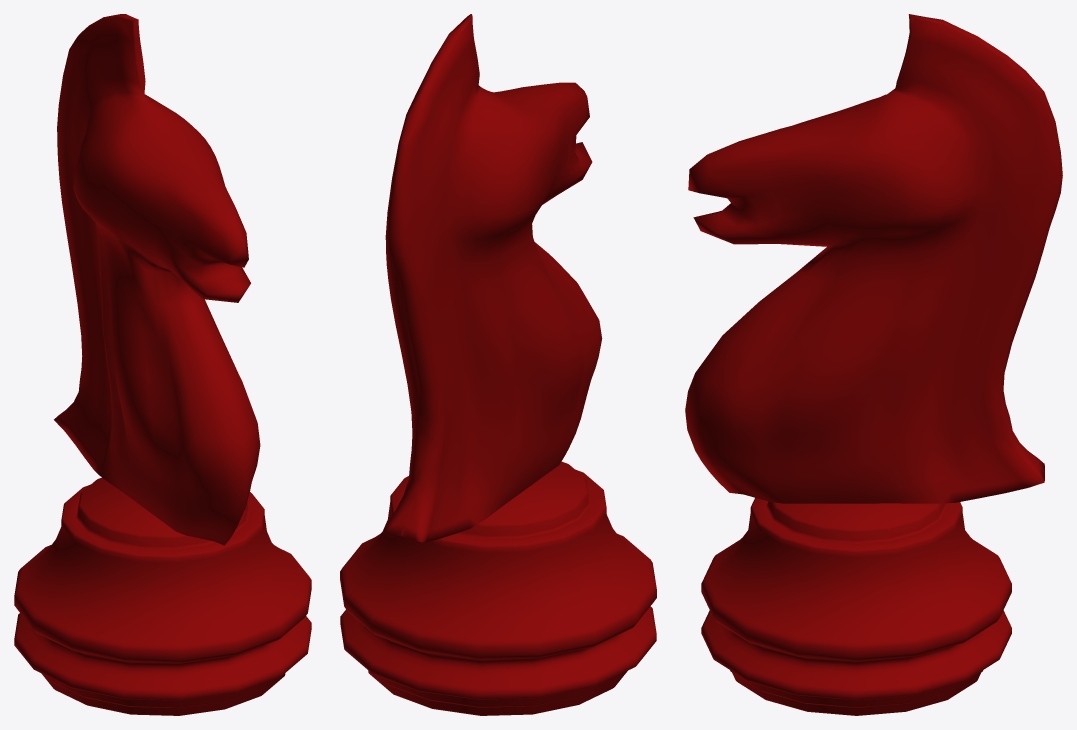
The picture shows the model from 3 angles, left to right: view 1: azimuth 30°, elevation 25°; view 2: azimuth 150°, elevation 25°; view 3: azimuth 270°, elevation 25°; orthographic projection. The views are drawn at different scales.
Visible parts, largest first — view 1: Knight_03; view 2: Knight_03; view 3: Knight_03.
Part boxes in pixels (bbox=[...]): Knight_03: bbox=[14, 14, 311, 715]; Knight_03: bbox=[340, 14, 656, 715]; Knight_03: bbox=[685, 14, 1062, 715].
Bounding box in the file's own units: 0.2876 × 0.6619 × 0.35.
